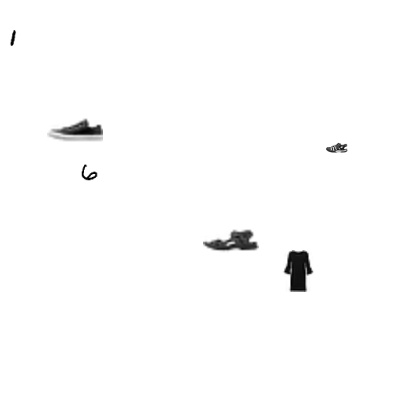1: (2, 27, 24, 49)
6: (77, 163, 99, 185)
Dress: (277, 250, 319, 292)
Sandal: (203, 212, 259, 268), (326, 136, 348, 158)
Sneaker: (47, 101, 103, 157)
